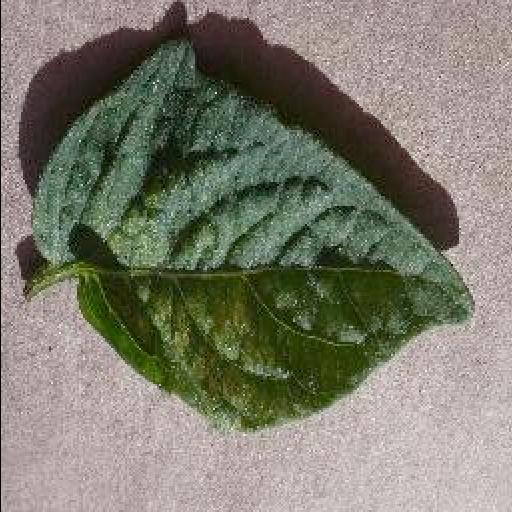disease_tomato: (32, 42, 478, 430)
